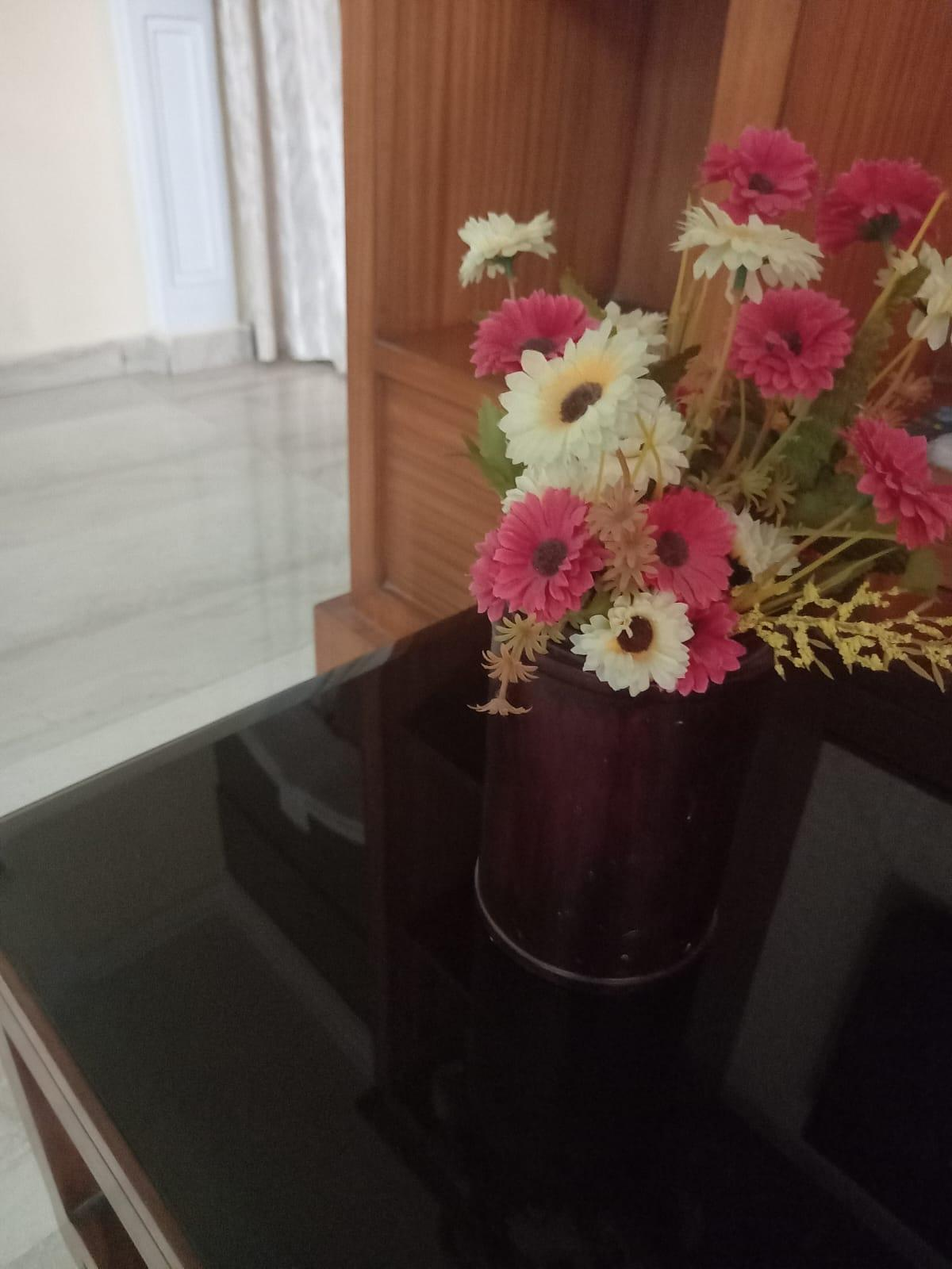vase: (416, 117, 952, 981)
